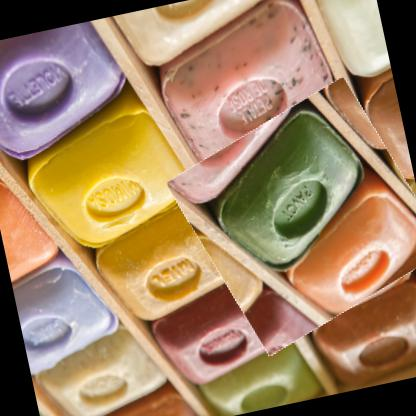soap: (167, 79, 415, 354)
